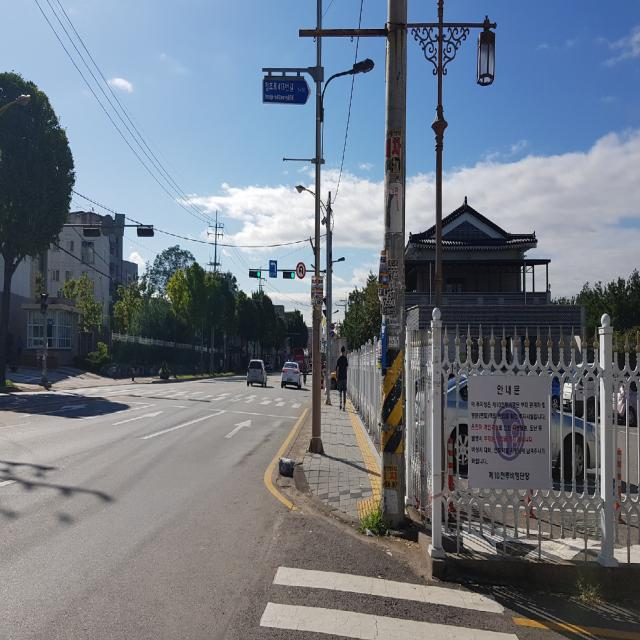횡단보도: (258, 564, 520, 640), (123, 381, 309, 411)
